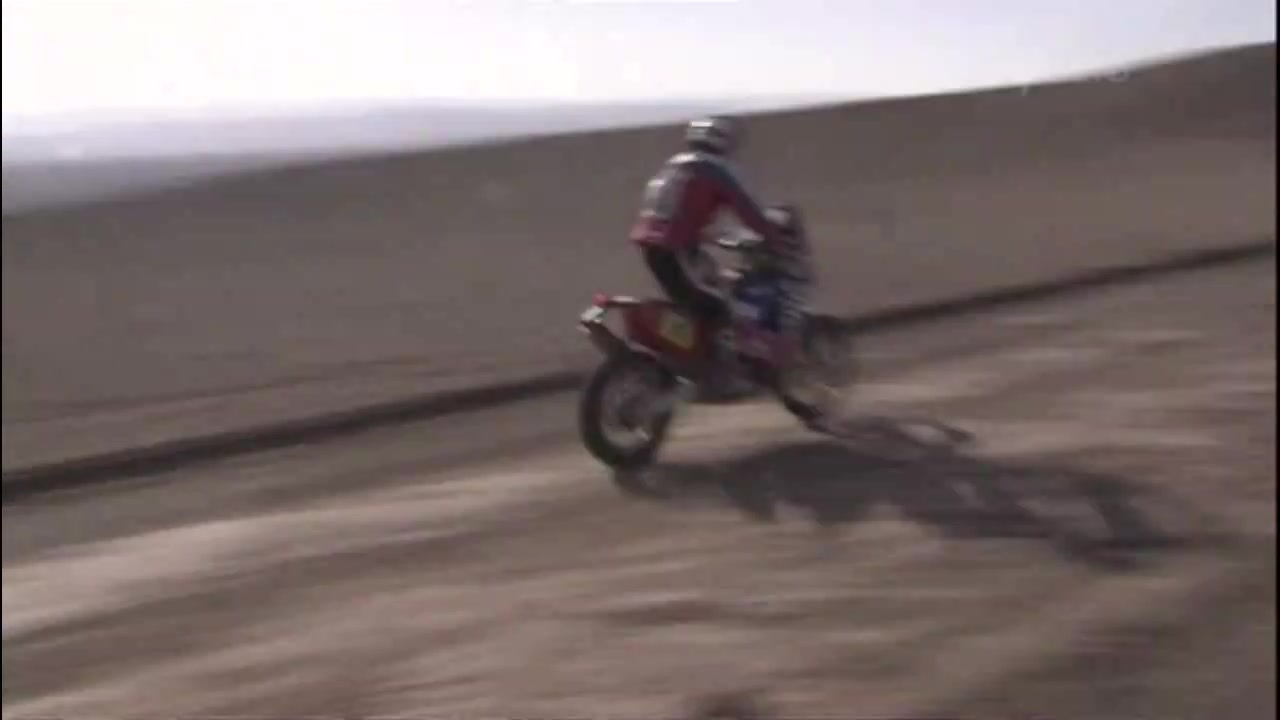motorbike: (576, 202, 864, 474)
